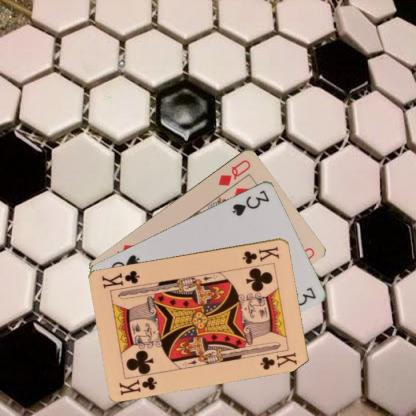3s: (230, 187, 270, 217)
Kc: (240, 243, 281, 265), (117, 374, 158, 396)
Qd: (215, 157, 252, 187)
